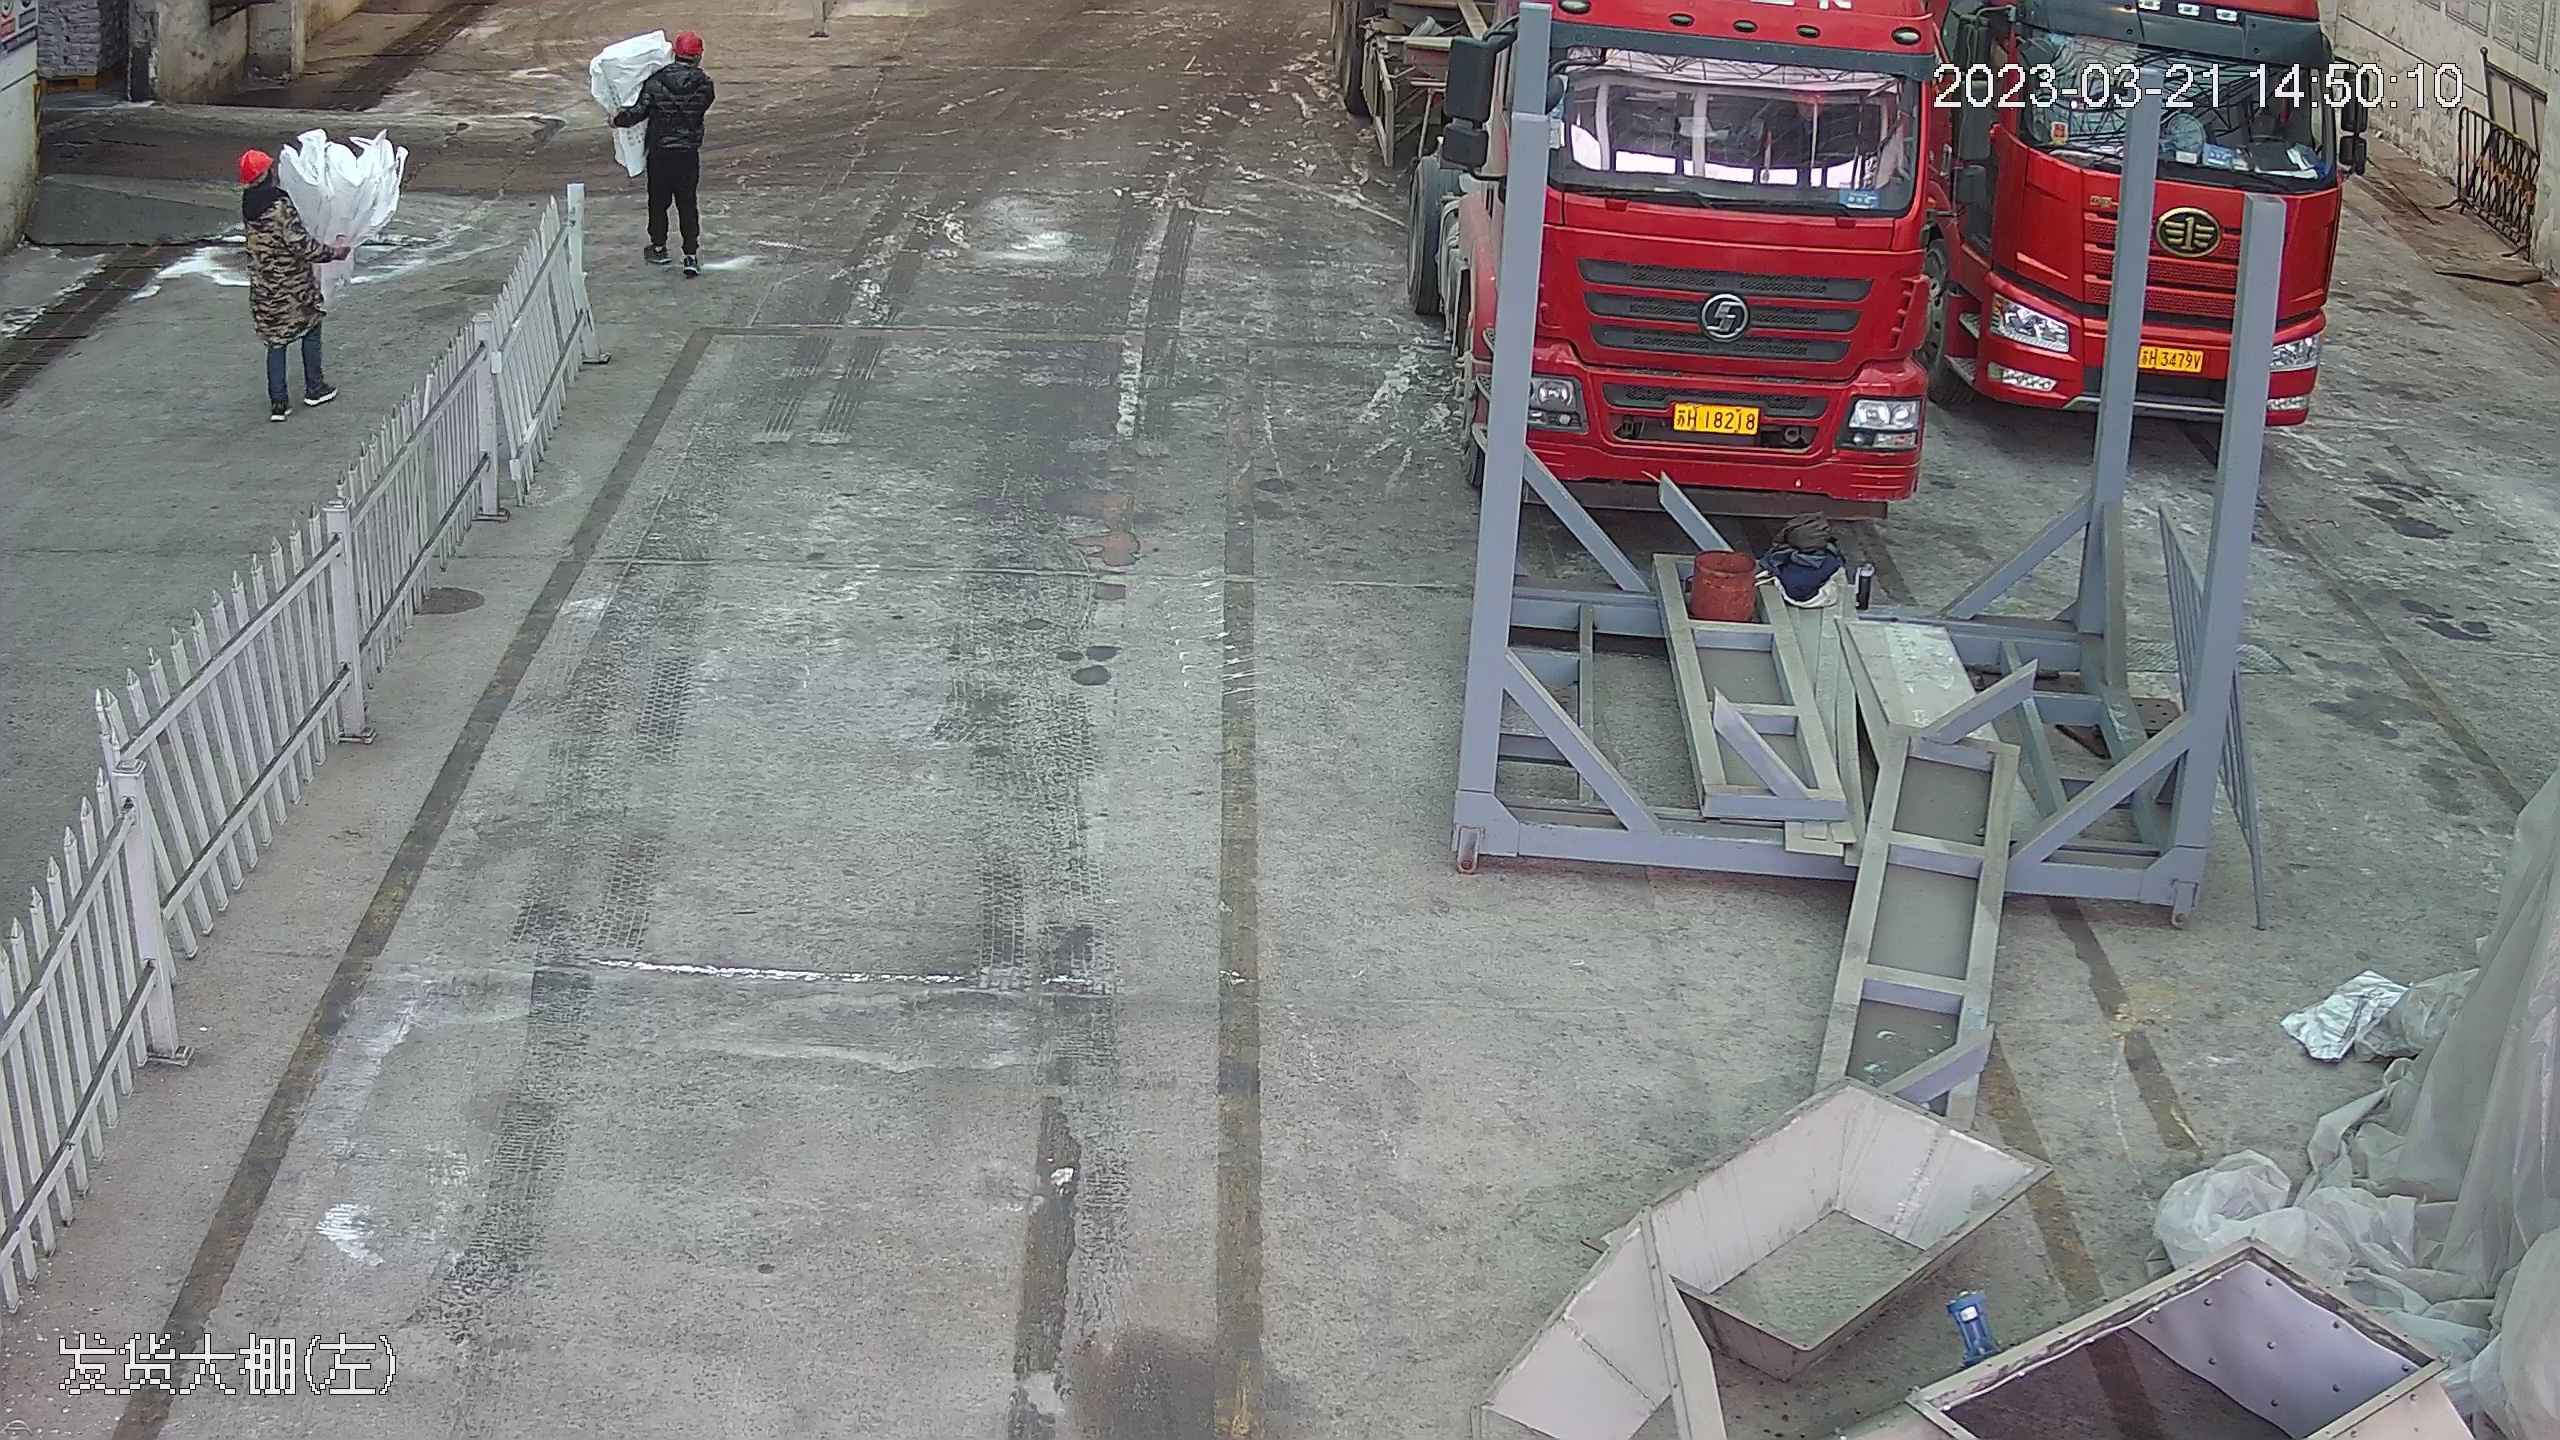head: (229, 142, 303, 233), (639, 29, 715, 104)
helmet: (234, 143, 279, 182), (662, 27, 704, 59)
people: (231, 134, 343, 422), (609, 23, 718, 277)
truck: (1498, 4, 1936, 506), (1917, 5, 2367, 426)
